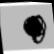correct: (20, 11, 49, 46)
